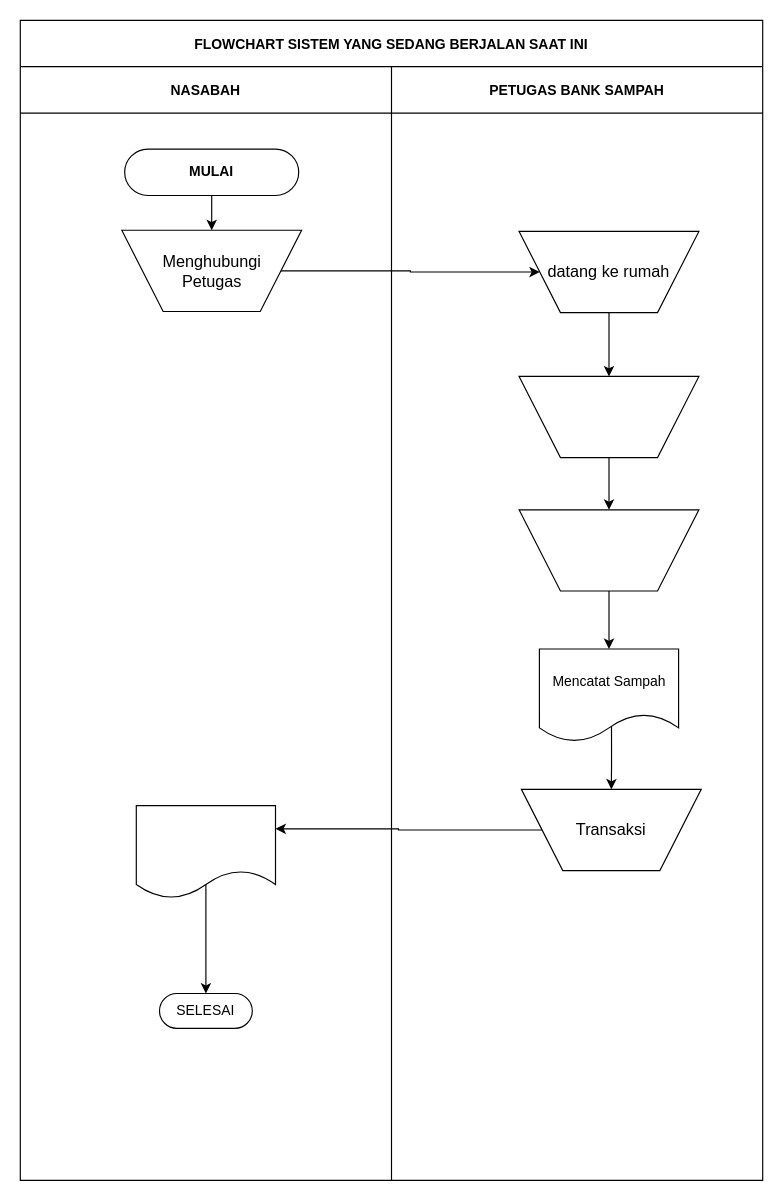
Some shapes in this 783 by 1201 pixel diagram are drawn without their labels. The shapes that lost their labels are listed below. From the top down, each one's centre as x and y in pixels, then its label:
point 608,416: mengecek sampah
point 608,550: menimbang berat sampah
point 205,851: Kwitansi
